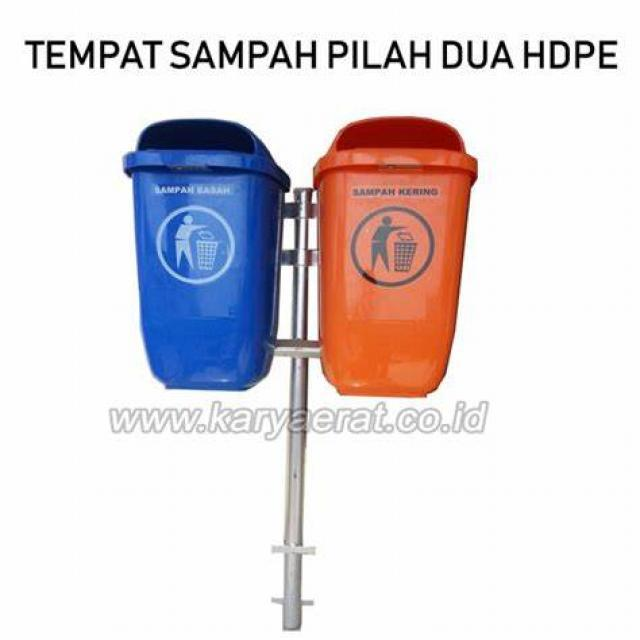garbage container: (83, 99, 294, 409), (319, 102, 492, 408)
